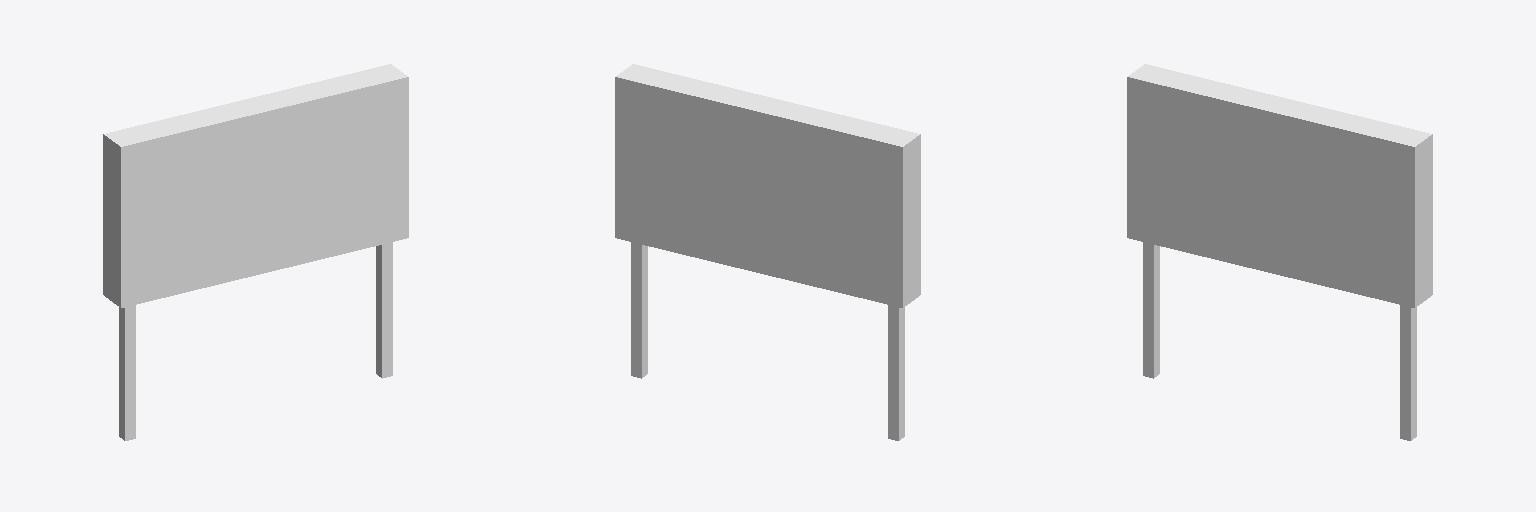
Rendered from casinoPointer.obj.
3 views of the same model, side by side, from view 1: azimuth 30°, elevation 25°; view 2: azimuth 150°, elevation 25°; view 3: azimuth 330°, elevation 25° (orthographic).
Parts seen in each view (by area): view 1: object 1; view 2: object 1; view 3: object 1.
Boxes of the visible parts, x1,y1,x2,y2 form: object 1: [103, 64, 408, 440]; object 1: [615, 64, 920, 440]; object 1: [1127, 64, 1432, 440].
Bounding box in the file's own units: 2.8 × 2.8 × 0.3.